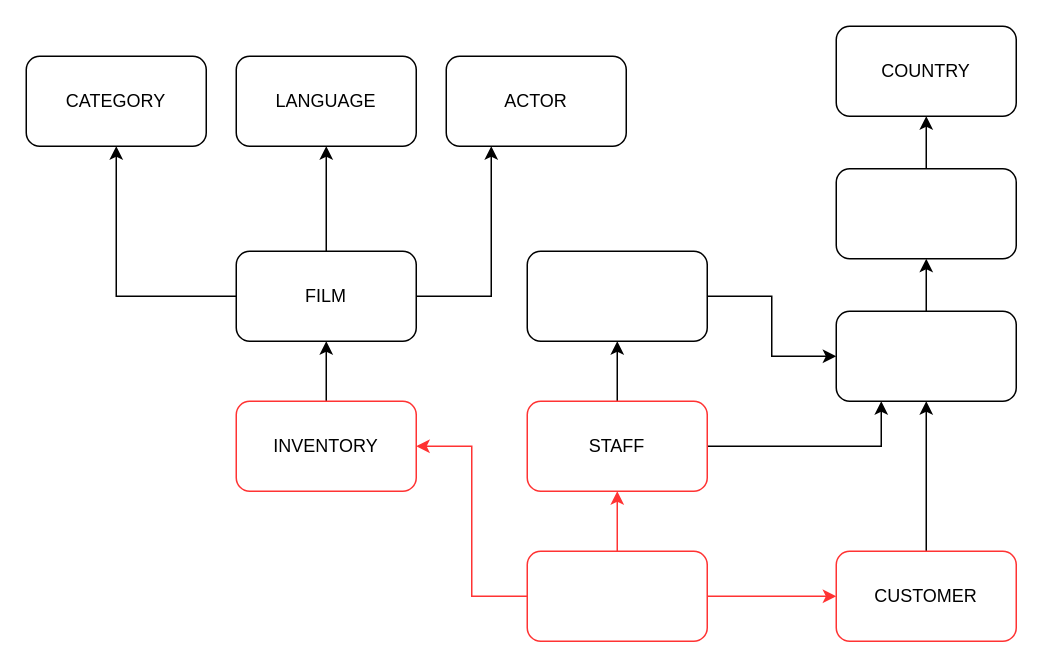
Image size: 1043x668. Some labels were removed from this diagram. The centre of each missing label's shape, as x and y in pixels:
"ADDRESS" belongs at (x=925, y=355).
"CITY" belongs at (x=925, y=213).
"RENTAL" belongs at (x=616, y=595).
"STORE" belongs at (x=616, y=295).
